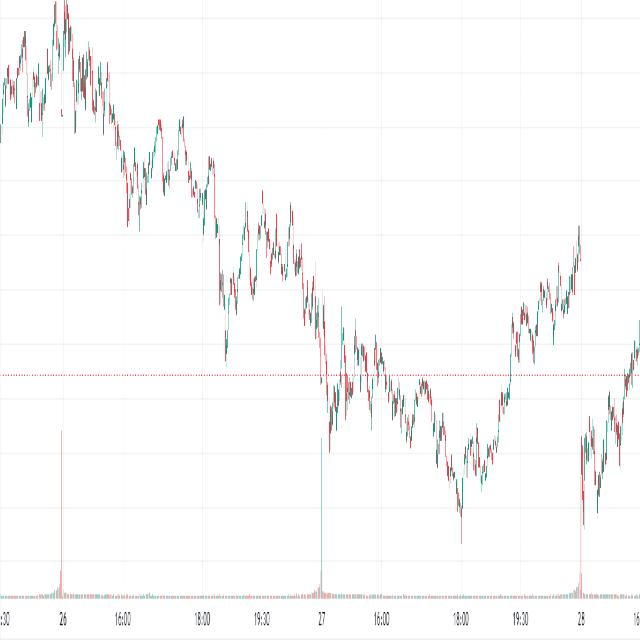Inverse-Head-Shoulders: (214, 213, 247, 371)
Rounding-Bottom: (372, 335, 516, 554)
Rounding-Top: (0, 0, 128, 168)
